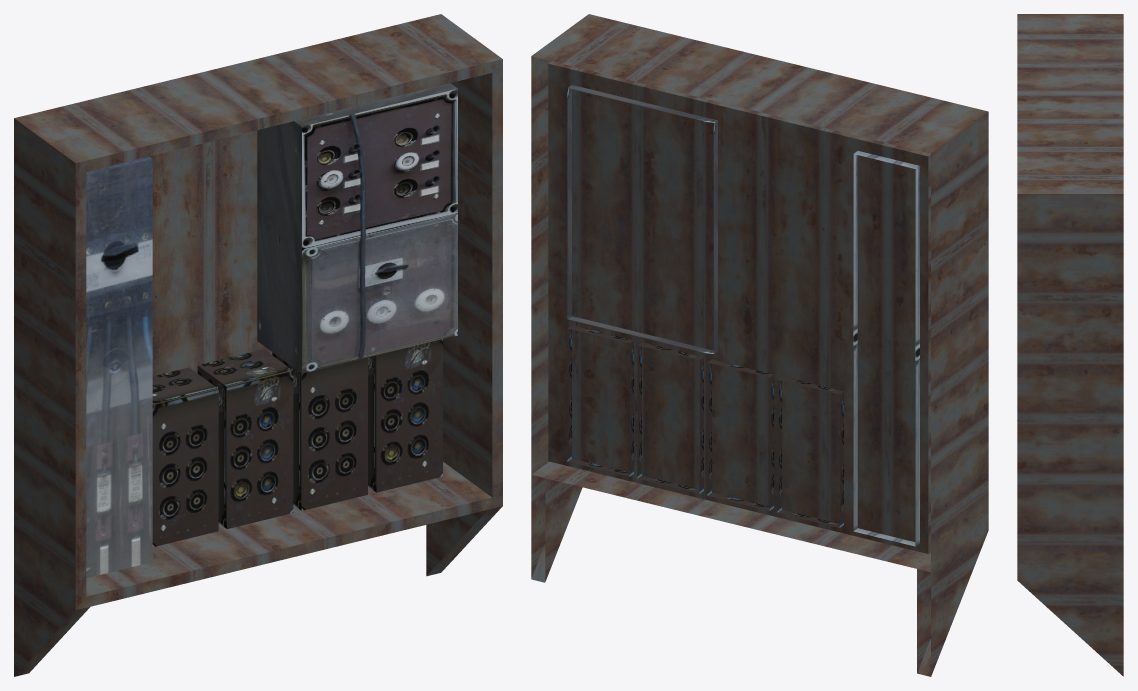
File: Small_Cabinet_Electronics.glb
The picture shows the model from 3 angles, left to right: view 1: azimuth 30°, elevation 25°; view 2: azimuth 150°, elevation 25°; view 3: azimuth 270°, elevation 25°; orthographic projection. The views are drawn at different scales.
Parts seen in each view (by area): view 1: Cabinet_Wall_Small_Electronics_Cube.030; view 2: Cabinet_Wall_Small_Electronics_Cube.030; view 3: Cabinet_Wall_Small_Electronics_Cube.030.
Part boxes in pixels (x1,y1,x2,y2): Cabinet_Wall_Small_Electronics_Cube.030: [14, 14, 502, 676]; Cabinet_Wall_Small_Electronics_Cube.030: [531, 14, 988, 676]; Cabinet_Wall_Small_Electronics_Cube.030: [1017, 14, 1123, 676].
Size of the model in its own units: 2 by 2.5 by 0.5.
Materials: 2 (2 with a texture image).
